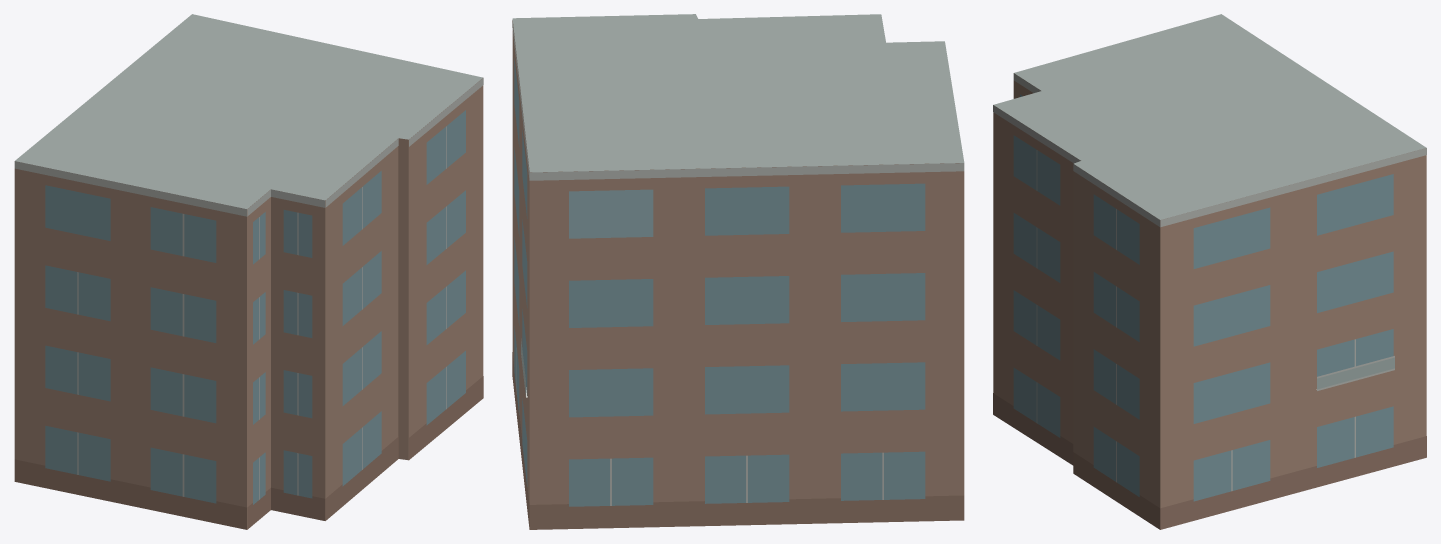
File: survey-upis-33011623.glb
3 renders of one model, left to right at view 1: azimuth 30°, elevation 25°; view 2: azimuth 150°, elevation 25°; view 3: azimuth 270°, elevation 25°, orthographic. The views are drawn at different scales.
Parts seen in each view (by area): view 1: survey-upis-33011623.tmp; view 2: survey-upis-33011623.tmp; view 3: survey-upis-33011623.tmp.
Part boxes in pixels (x1,y1,x2,y2): survey-upis-33011623.tmp: [14, 14, 483, 529]; survey-upis-33011623.tmp: [512, 14, 964, 529]; survey-upis-33011623.tmp: [993, 14, 1426, 529].
Size of the model in its own units: 14.84 by 10.4 by 13.2.
